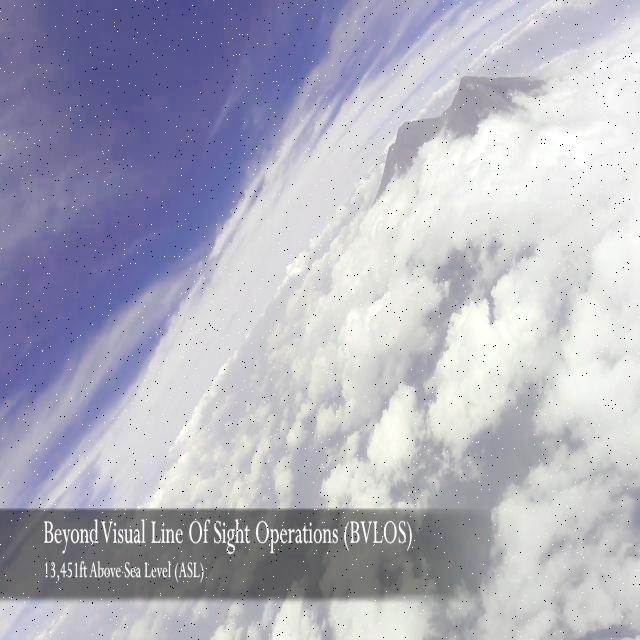Plume: (452, 62, 462, 76)
Summit: (456, 73, 488, 103)
